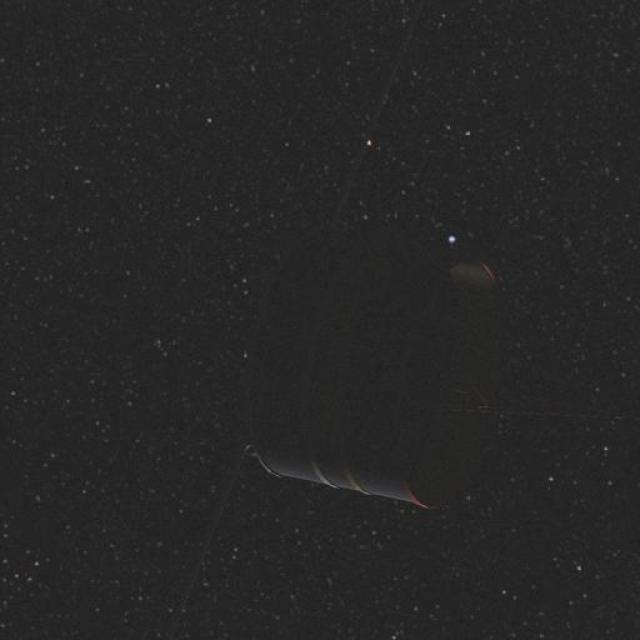double_start: (238, 210, 521, 525)
